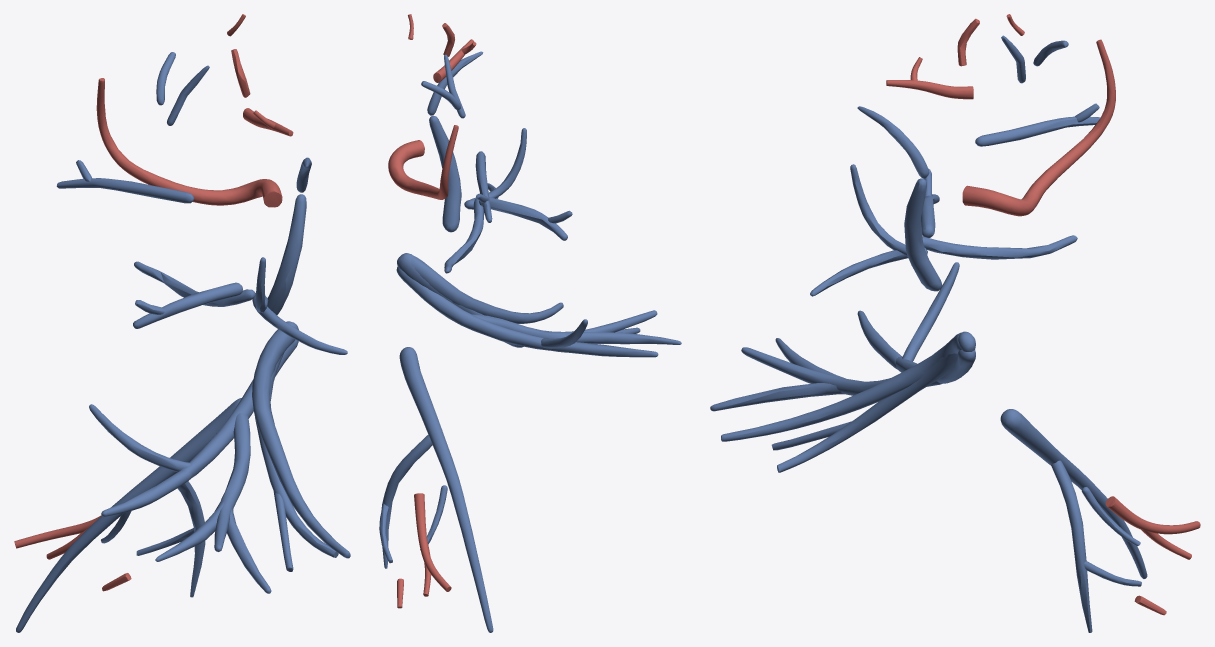
File: thorax-13.glb
The picture shows the model from 3 angles, left to right: view 1: azimuth 30°, elevation 25°; view 2: azimuth 150°, elevation 25°; view 3: azimuth 270°, elevation 25°; orthographic projection. The views are drawn at different scales.
Visible parts, largest first — view 1: FJ3030, FJ3041, FJ3018, FJ3037, FJ3031, FJ3034, FJ3032, FJ3023, FJ3028, FJ3036, FJ3035, FJ3022 (+9 smaller); view 2: FJ3041, FJ3034, FJ3030, FJ3018, FJ3031, FJ3037, FJ3043, FJ3038, FJ3035, FJ3028, FJ3013, FJ3022 (+5 smaller); view 3: FJ3018, FJ3030, FJ3032, FJ3041, FJ3031, FJ3043, FJ3022, FJ3037, FJ3039, FJ3023, FJ3036, FJ3013 (+6 smaller).
Part boxes in pixels (bbox=[...]): FJ3030: bbox=[252, 329, 350, 558]; FJ3041: bbox=[16, 398, 241, 632]; FJ3018: bbox=[96, 78, 282, 207]; FJ3037: bbox=[214, 413, 250, 551]; FJ3031: bbox=[267, 194, 306, 314]; FJ3034: bbox=[180, 339, 298, 478]; FJ3032: bbox=[255, 321, 338, 557]; FJ3023: bbox=[56, 178, 194, 203]; FJ3028: bbox=[133, 282, 242, 328]; FJ3036: bbox=[89, 404, 190, 471]; FJ3035: bbox=[101, 470, 191, 516]; FJ3022: bbox=[134, 261, 255, 306]; FJ3041: bbox=[399, 347, 493, 632]; FJ3034: bbox=[396, 267, 553, 350]; FJ3030: bbox=[411, 255, 563, 323]; FJ3018: bbox=[388, 125, 458, 199]; FJ3031: bbox=[429, 115, 461, 232]; FJ3037: bbox=[472, 310, 657, 338]; FJ3043: bbox=[381, 429, 442, 568]; FJ3038: bbox=[562, 332, 681, 344]; FJ3035: bbox=[551, 342, 658, 357]; FJ3028: bbox=[479, 197, 567, 240]; FJ3013: bbox=[414, 493, 451, 591]; FJ3022: bbox=[444, 198, 484, 273]; FJ3018: bbox=[962, 39, 1115, 216]; FJ3030: bbox=[721, 332, 961, 441]; FJ3032: bbox=[777, 331, 975, 472]; FJ3041: bbox=[1000, 409, 1147, 578]; FJ3031: bbox=[904, 178, 942, 291]; FJ3043: bbox=[1051, 460, 1092, 632]; FJ3022: bbox=[922, 235, 1077, 259]; FJ3037: bbox=[741, 347, 941, 395]; FJ3039: bbox=[710, 383, 844, 411]; FJ3023: bbox=[975, 116, 1100, 146]; FJ3036: bbox=[902, 262, 959, 361]; FJ3013: bbox=[1105, 496, 1200, 534].
Bounding box in the file's own units: 0.0885 × 0.2135 × 0.1473.
